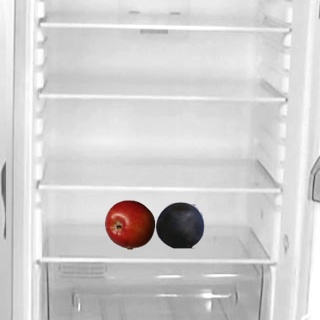Apple Braeburn: (104, 199, 154, 249)
Grape Blue: (154, 199, 204, 249)
